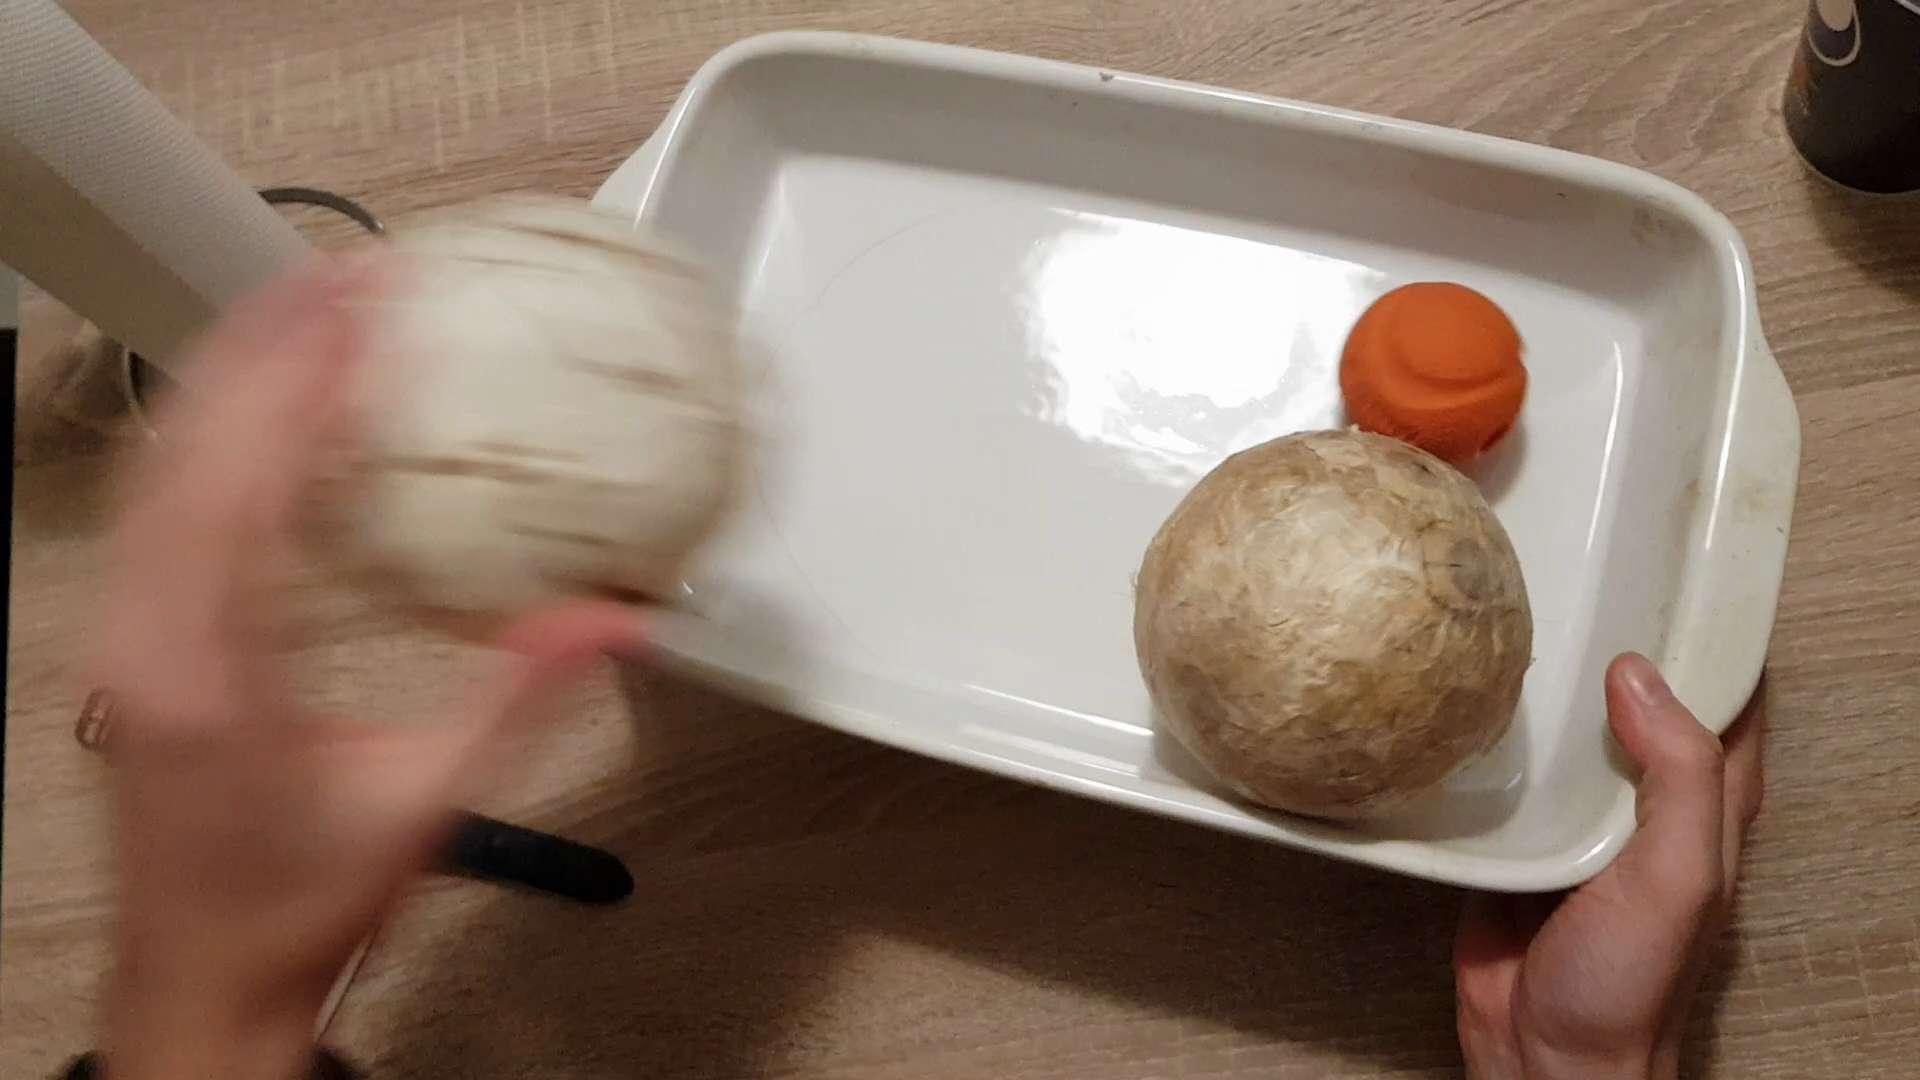sphere: (1117, 425, 1540, 836)
